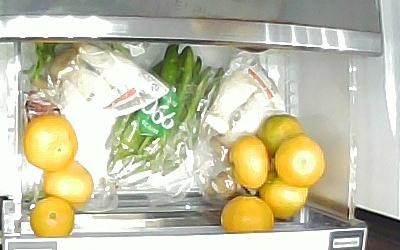tangerine: (24, 116, 78, 172), (275, 136, 326, 187), (260, 171, 310, 220), (43, 161, 94, 208), (229, 134, 270, 191), (220, 195, 275, 233), (260, 114, 308, 157), (29, 198, 79, 238)
